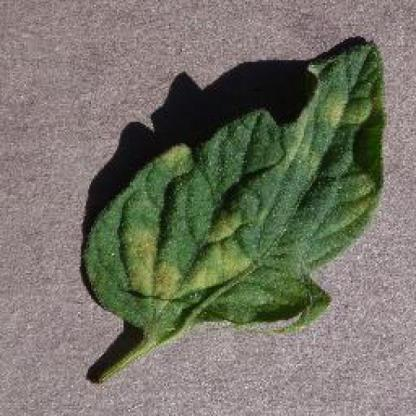Tomato_Leaf_Mold: (82, 41, 382, 344)
